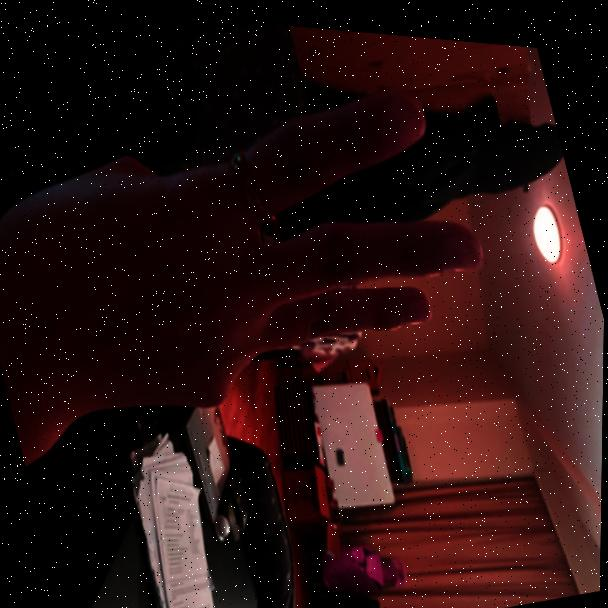five: (0, 33, 517, 475)
